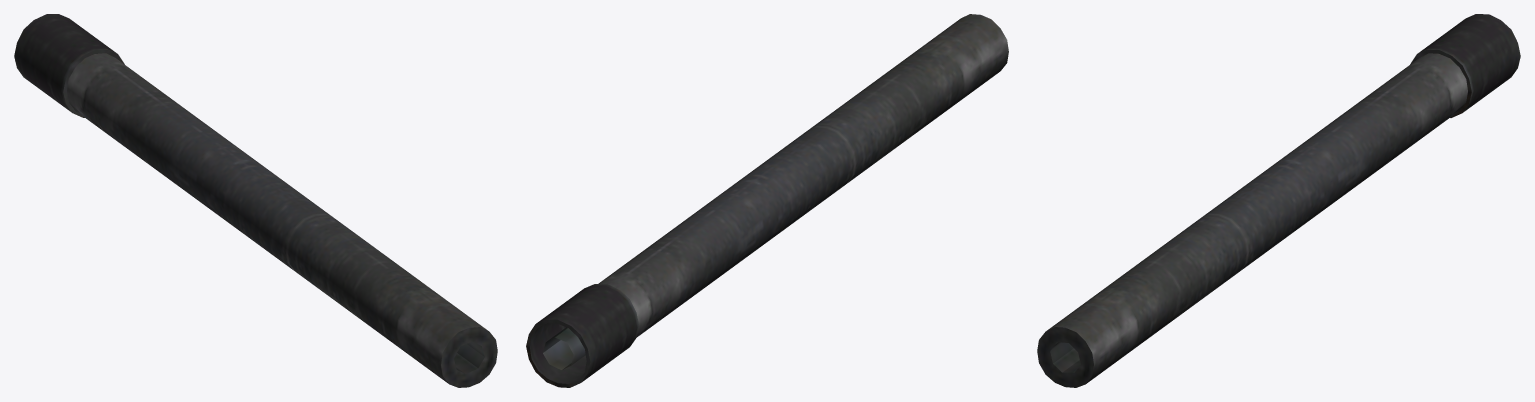
Rendered from barrel.obj.
3 views of the same model, side by side, from view 1: azimuth 30°, elevation 25°; view 2: azimuth 150°, elevation 25°; view 3: azimuth 330°, elevation 25° (orthographic).
Parts seen in each view (by area): view 1: wpn_revolver; view 2: wpn_revolver; view 3: wpn_revolver.
Part boxes in pixels (left/top/right/bottom): wpn_revolver: left=14, top=14, right=497, bottom=387; wpn_revolver: left=526, top=14, right=1008, bottom=387; wpn_revolver: left=1037, top=14, right=1520, bottom=387.
Size of the model in its own units: 0.0254 by 0.0254 by 0.2886.
